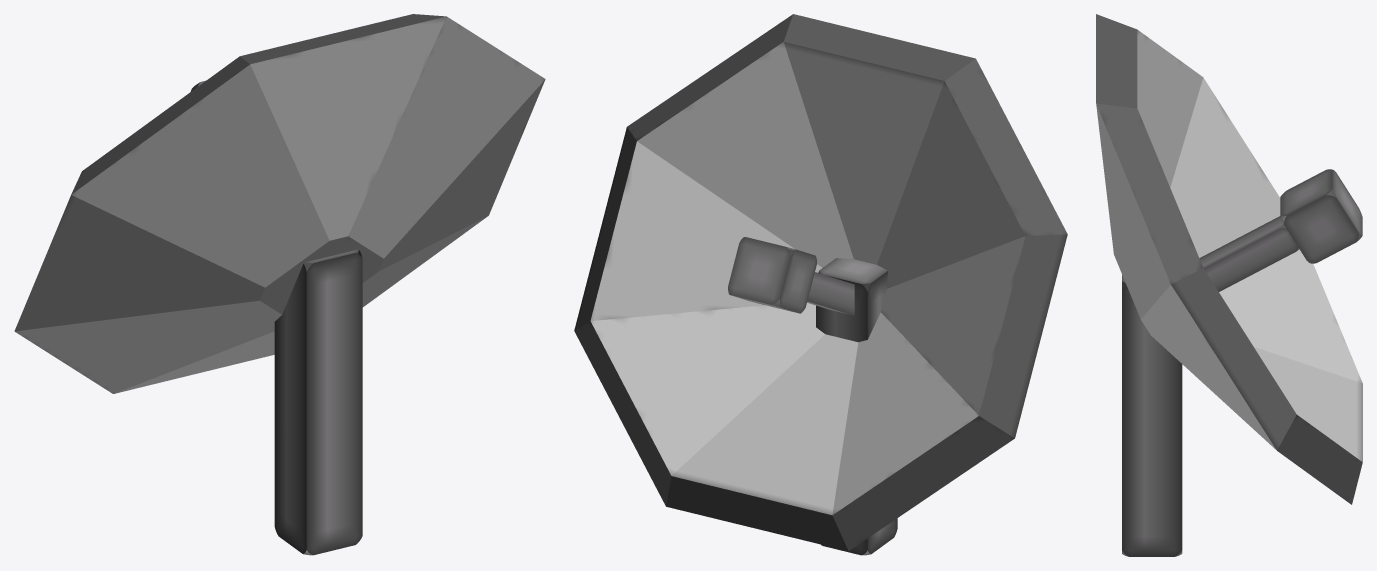
Rendered from radar2.obj.
The picture shows the model from 3 angles, left to right: view 1: azimuth 30°, elevation 25°; view 2: azimuth 150°, elevation 25°; view 3: azimuth 270°, elevation 25°; orthographic projection. The views are drawn at different scales.
Parts seen in each view (by area): view 1: tube, cube; view 2: tube, cube1, cube, cube2; view 3: tube, cube, cube1, cube2.
Part boxes in pixels (x1,y1,x2,y2): tube: (14,14,545,393); cube: (274,249,362,555); tube: (574,14,1067,551); cube1: (728,237,816,313); cube: (816,258,897,555); cube2: (807,272,854,315); tube: (1096,14,1362,504); cube: (1122,275,1182,556); cube1: (1280,169,1362,263); cube2: (1199,216,1298,291).
Bounding box in the file's own units: 2.12 × 2.22 × 1.11.
